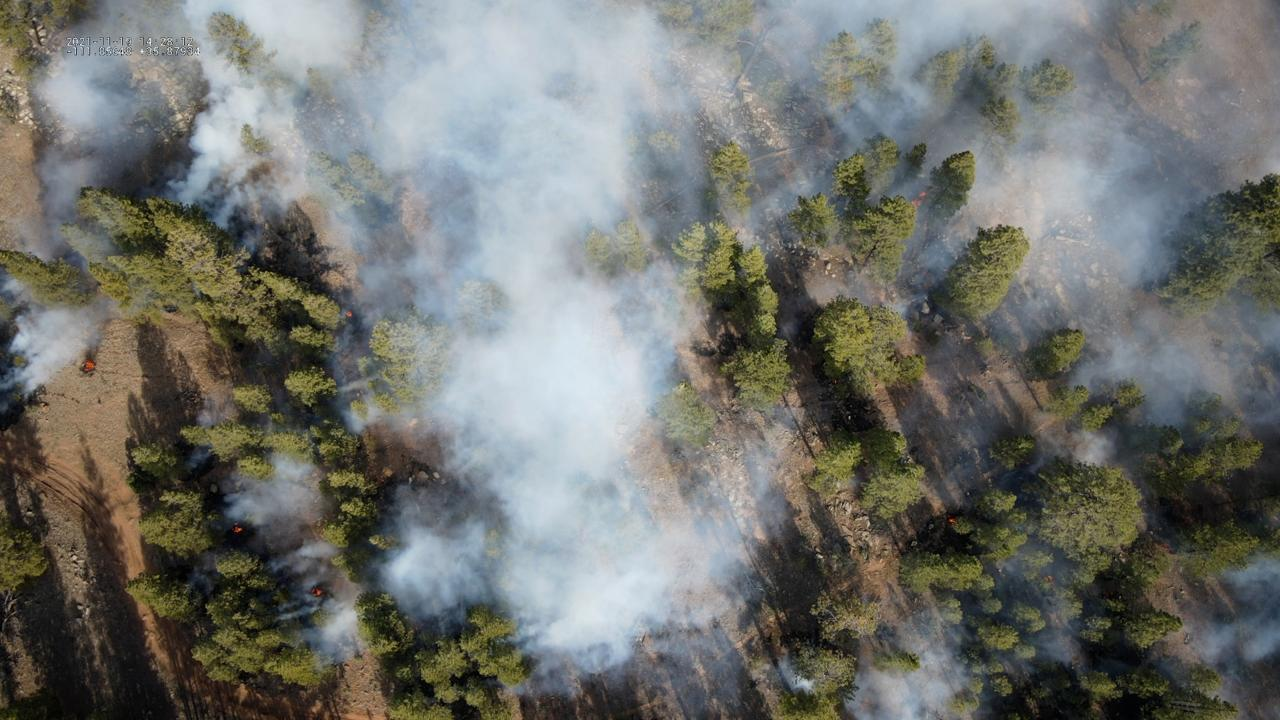fire: (908, 191, 928, 207), (80, 360, 96, 374), (230, 520, 243, 534), (310, 586, 323, 598), (345, 310, 353, 320), (1043, 575, 1054, 582), (947, 516, 955, 524)
smoke: (0, 0, 1280, 720)
